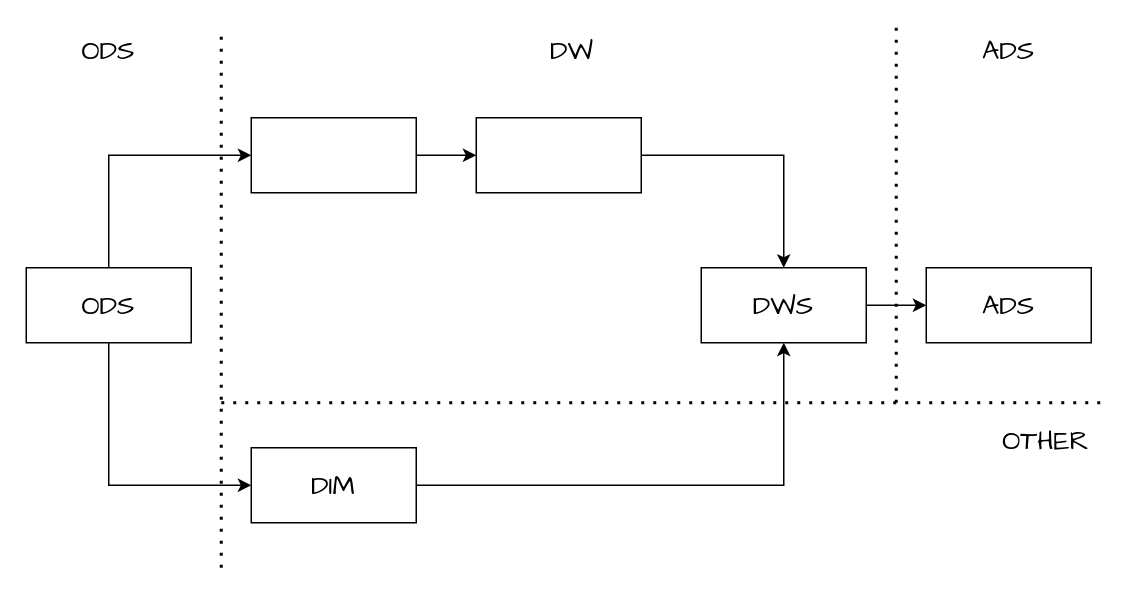
Image size: 1136x596. Some labels were removed from this diagram. Each missing label, with the box of its shape:
DWB: (475, 116, 641, 193)
DWD: (250, 116, 416, 193)
